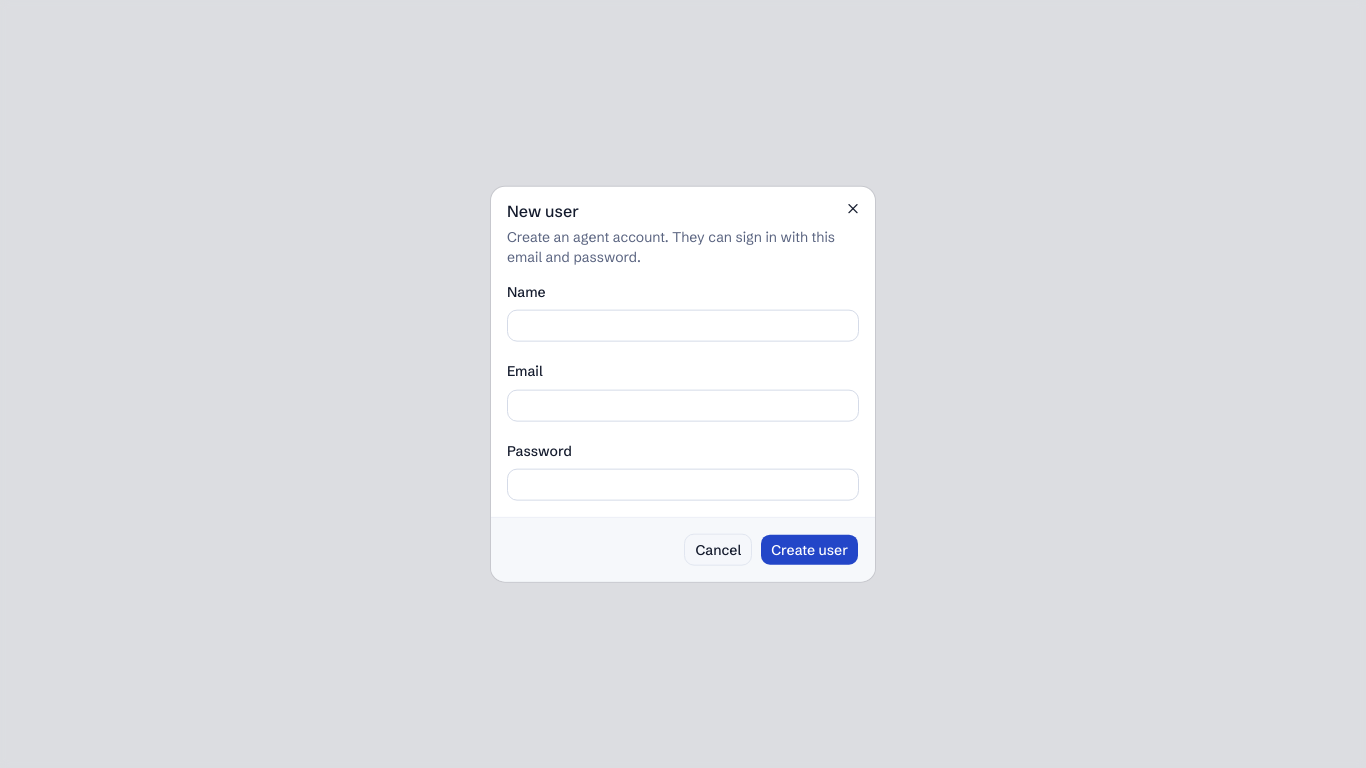
Scenario: UserForm (new user) › counts the name's length after trimming
Expected: the dialog "New user" is shown, x1=491 y1=187 x2=875 y2=581
In the field labelled "Name": (683, 326) x1=507 y1=310 x2=859 y2=342, type "  Ab  "
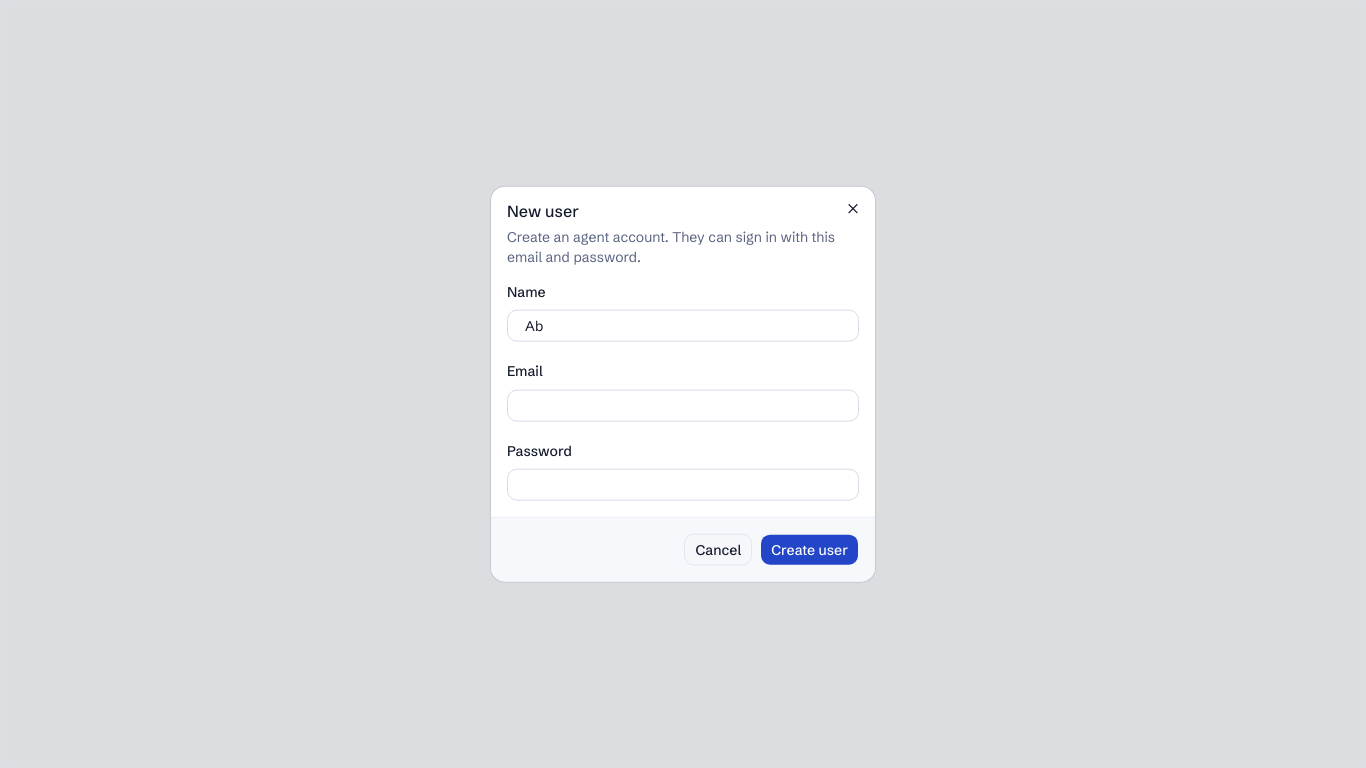
In the field labelled "Email": (683, 405) x1=507 y1=389 x2=859 y2=421, type "grace@example.com"
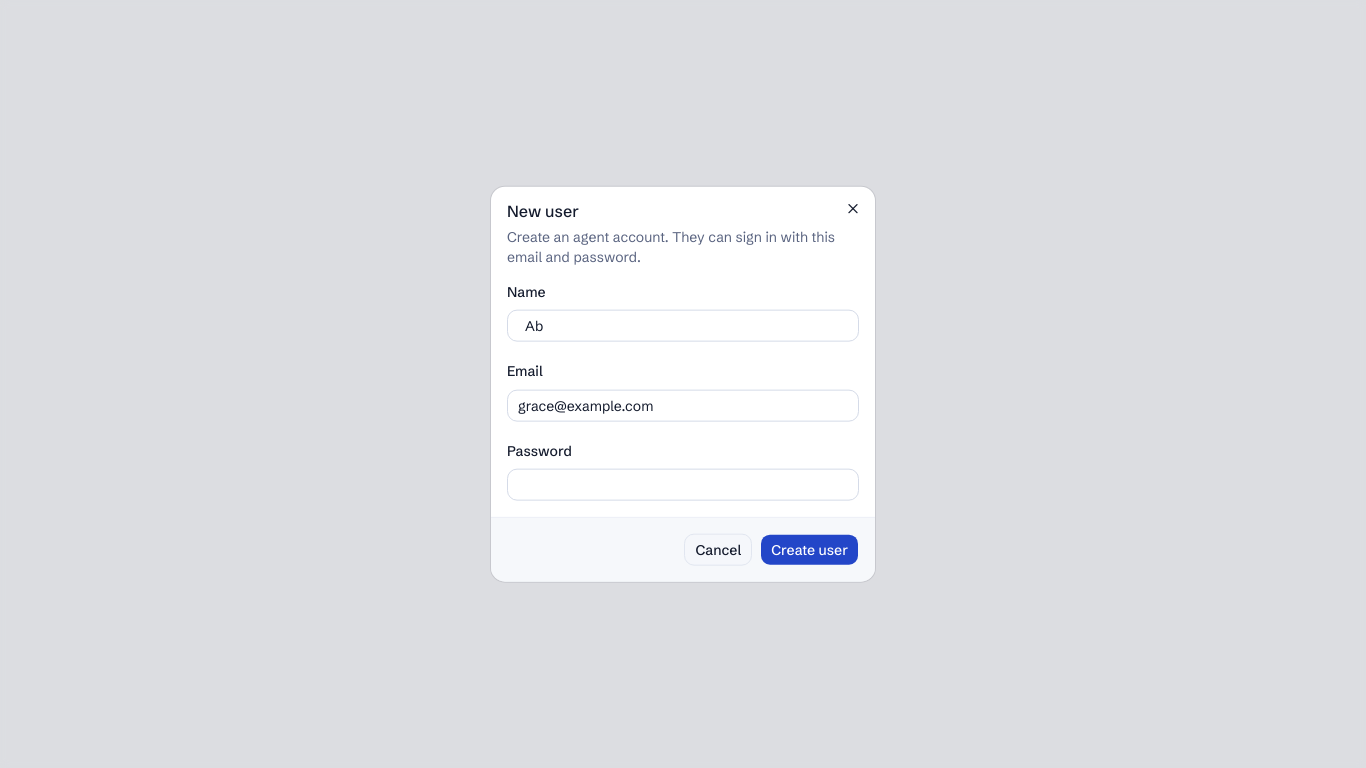
In the password field labelled "Password": (683, 484) x1=507 y1=468 x2=859 y2=500, type "12345678"
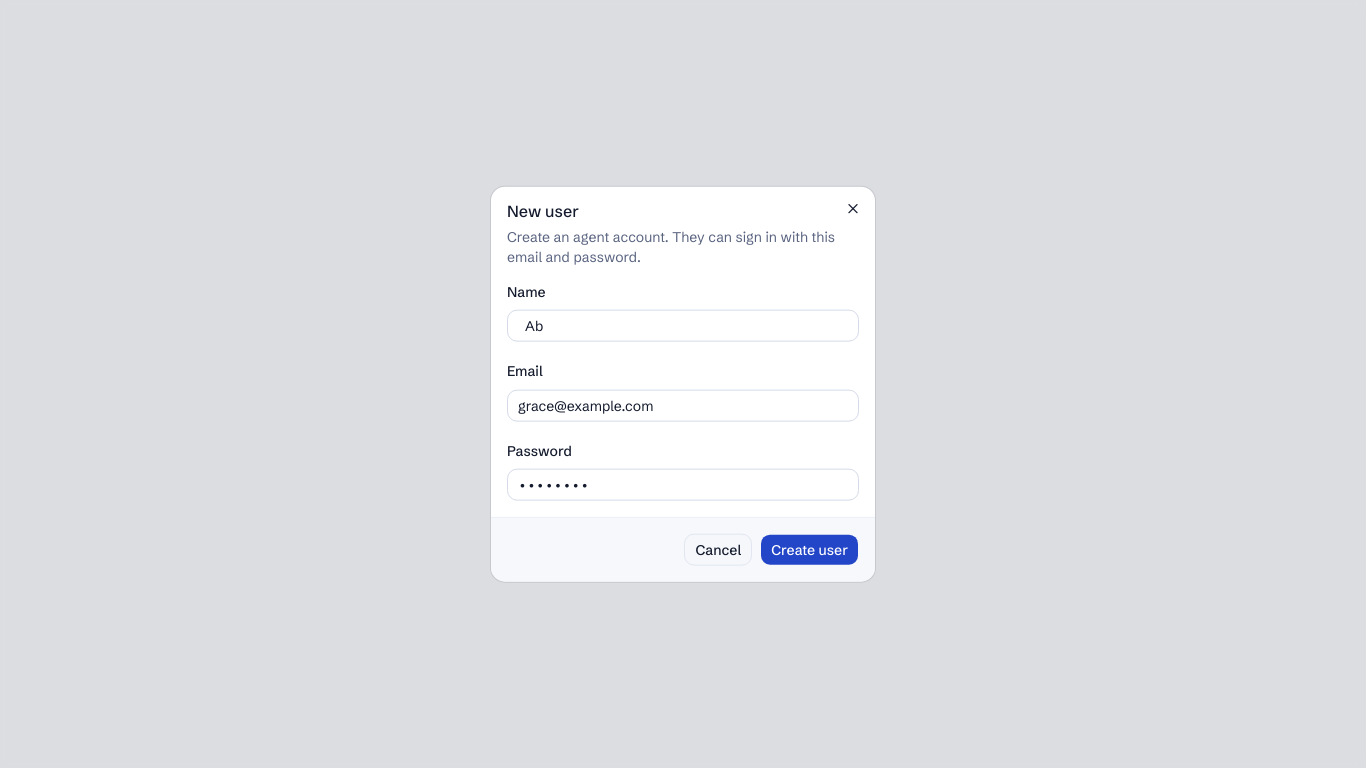
Click the button "Create user": (810, 549) x1=760 y1=533 x2=859 y2=565
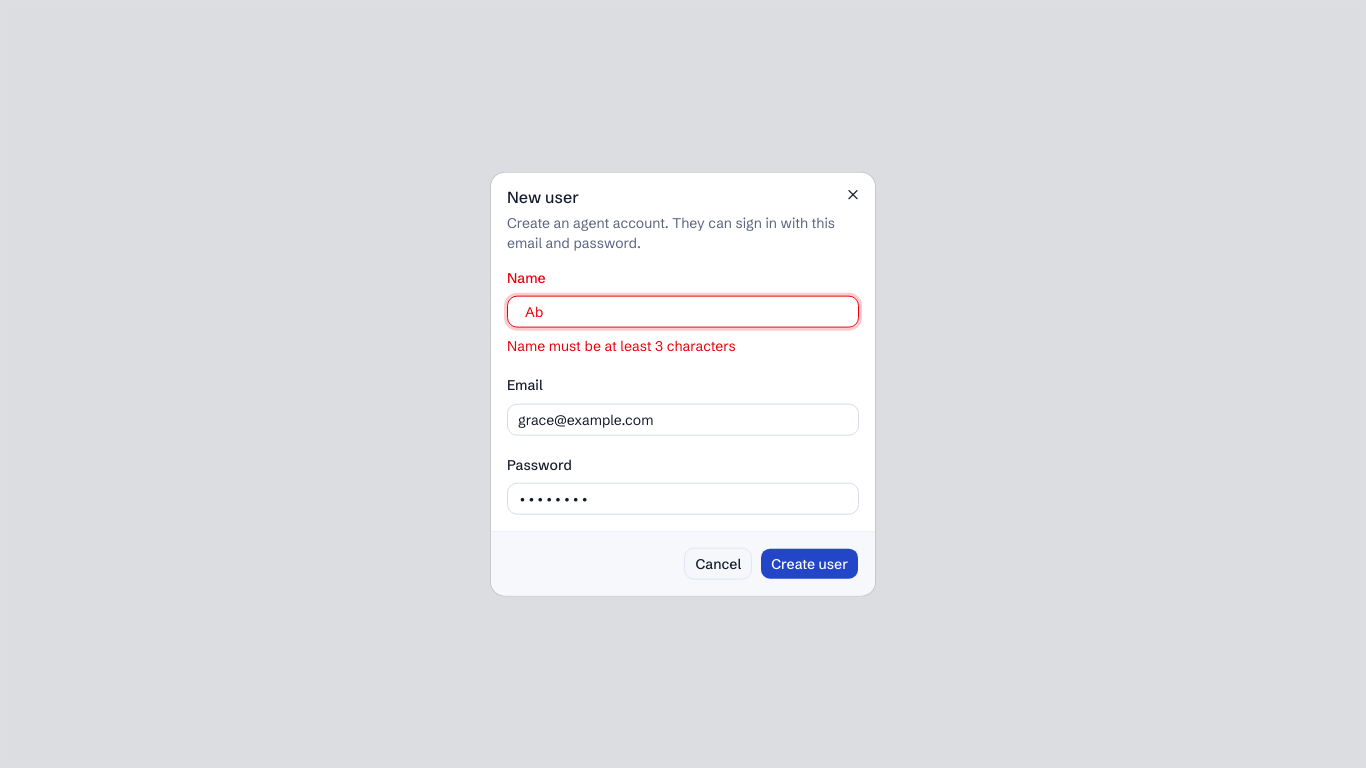
Expected: the text "Name must be at least 3 characters" is shown, x1=507 y1=337 x2=736 y2=355
